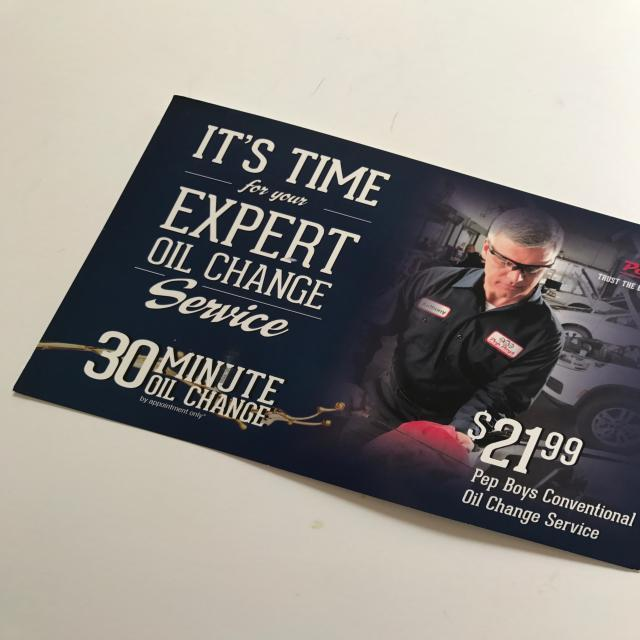paper: (14, 91, 640, 569)
